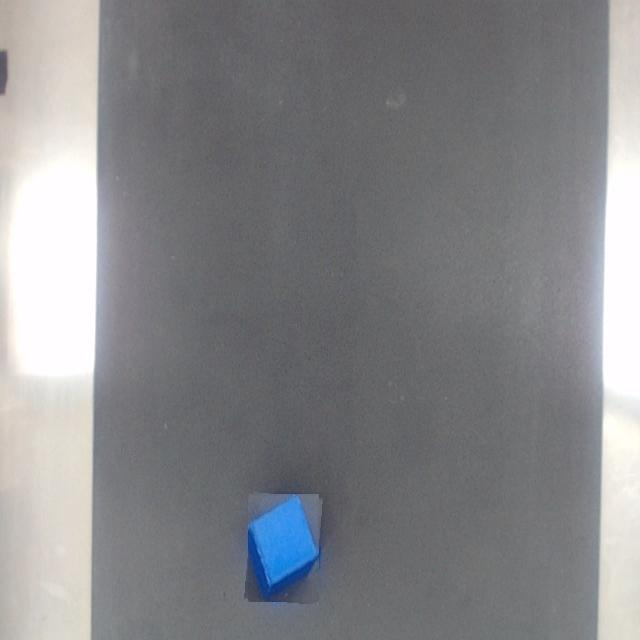Azul: (249, 496, 317, 601)
